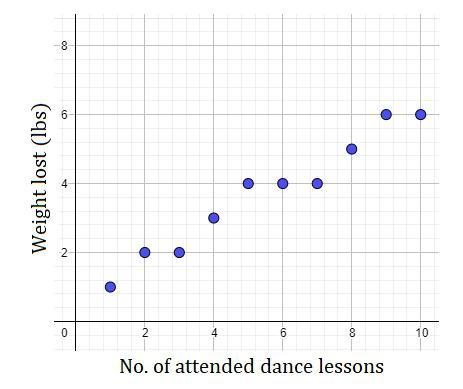axis: (52, 317, 443, 326), (71, 7, 80, 353)
point: (378, 105, 396, 123), (412, 106, 430, 124), (171, 245, 190, 260), (102, 280, 119, 296), (310, 174, 326, 191), (343, 141, 361, 156), (240, 176, 257, 191), (137, 244, 153, 259), (205, 211, 222, 225), (275, 176, 290, 190)
